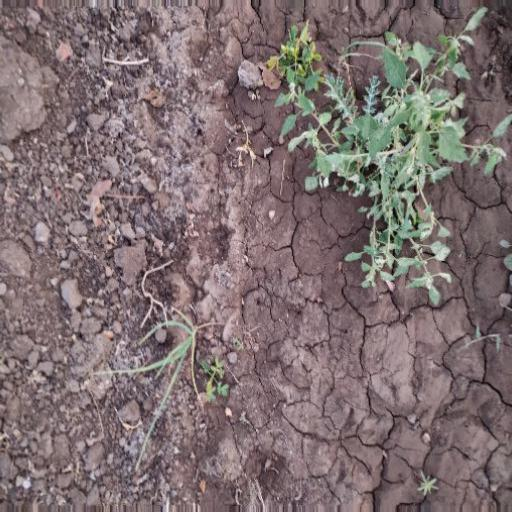crop: (283, 24, 499, 309)
